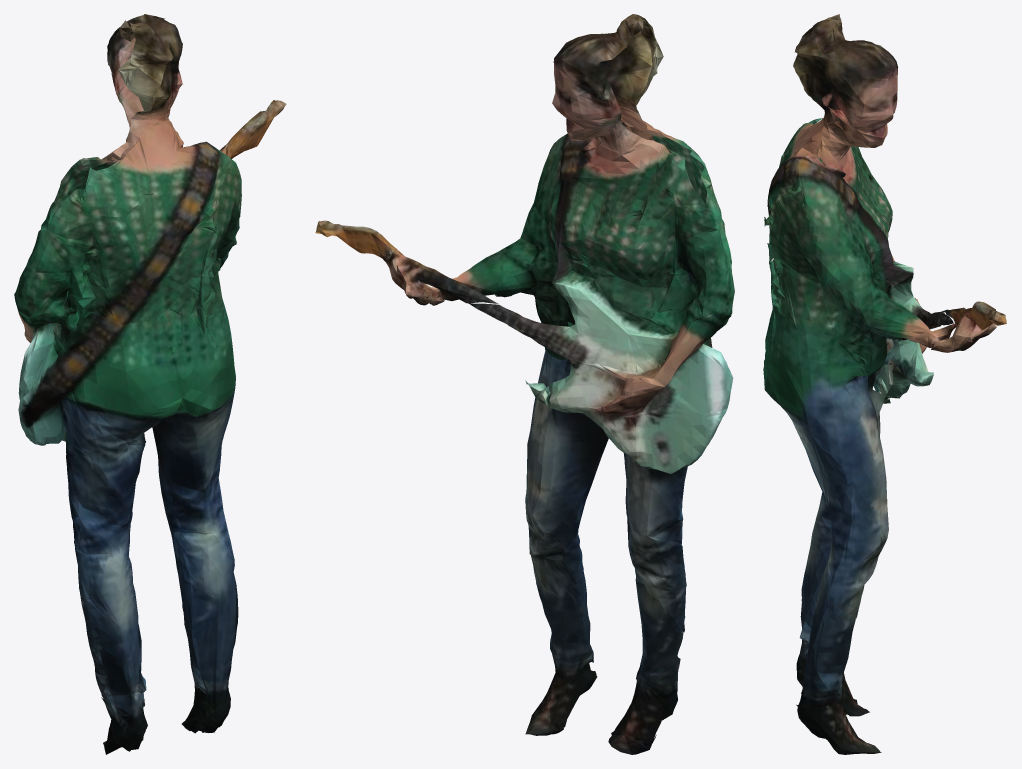
The picture shows the model from 3 angles, left to right: view 1: azimuth 30°, elevation 25°; view 2: azimuth 150°, elevation 25°; view 3: azimuth 270°, elevation 25°; orthographic projection. The views are drawn at different scales.
Parts seen in each view (by area): view 1: dec_0008; view 2: dec_0008; view 3: dec_0008.
Part boxes in pixels (bbox=[...]): dec_0008: bbox=[14, 14, 286, 754]; dec_0008: bbox=[315, 14, 734, 754]; dec_0008: bbox=[763, 14, 1006, 754].
Size of the model in its own units: 0.8393 by 1.72 by 0.5434.
1 material, 1 textured.
